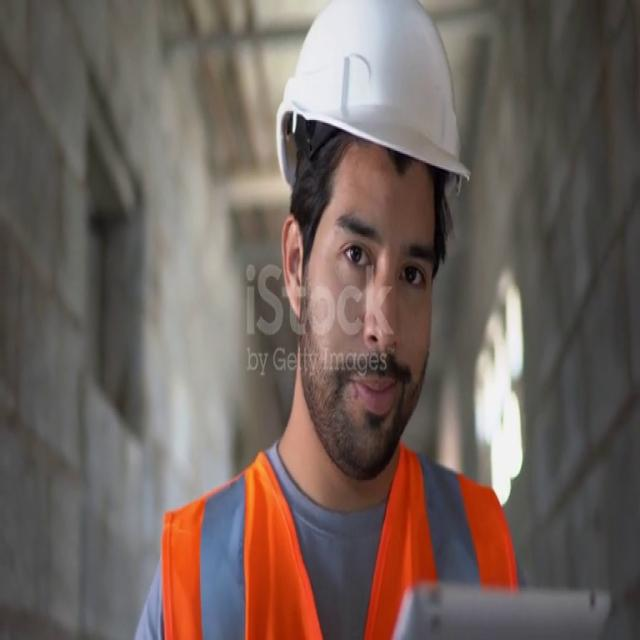capacete: (264, 2, 473, 198)
